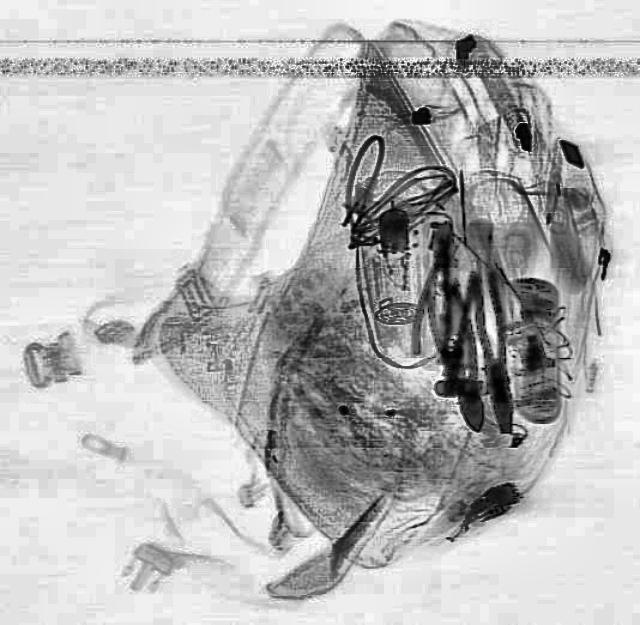Pliers: (420, 278, 496, 436), (409, 221, 473, 357), (467, 269, 519, 435)
